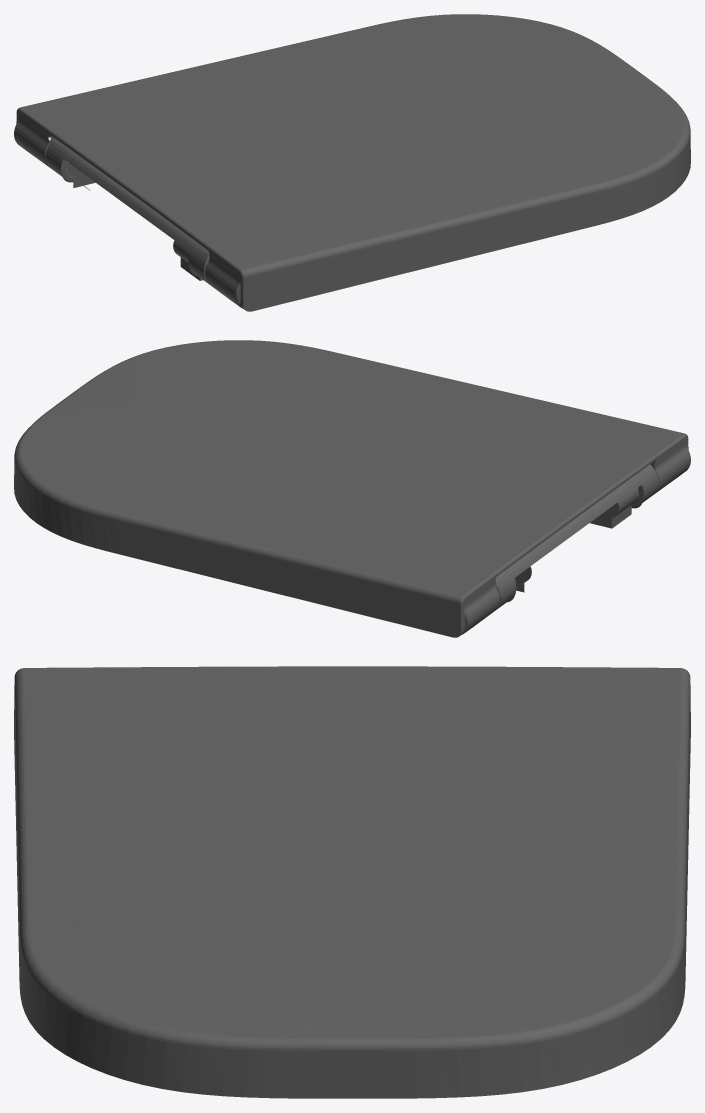
File: AEC_48652.glb
3 views of the same model, one above another, from view 1: azimuth 30°, elevation 25°; view 2: azimuth 150°, elevation 25°; view 3: azimuth 270°, elevation 25° (orthographic). The views are drawn at different scales.
Parts seen in each view (by area): view 1: 0; view 2: 0; view 3: 0.
Part boxes in pixels (left/top/right/bottom): 0: left=14, top=14, right=690, bottom=311; 0: left=14, top=340, right=690, bottom=637; 0: left=14, top=666, right=690, bottom=1098.
Size of the model in its own units: 0.4574 by 0.041 by 0.3501.
1 material, 1 textured.
